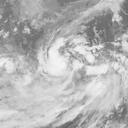cyclone: (40, 39, 78, 82)
